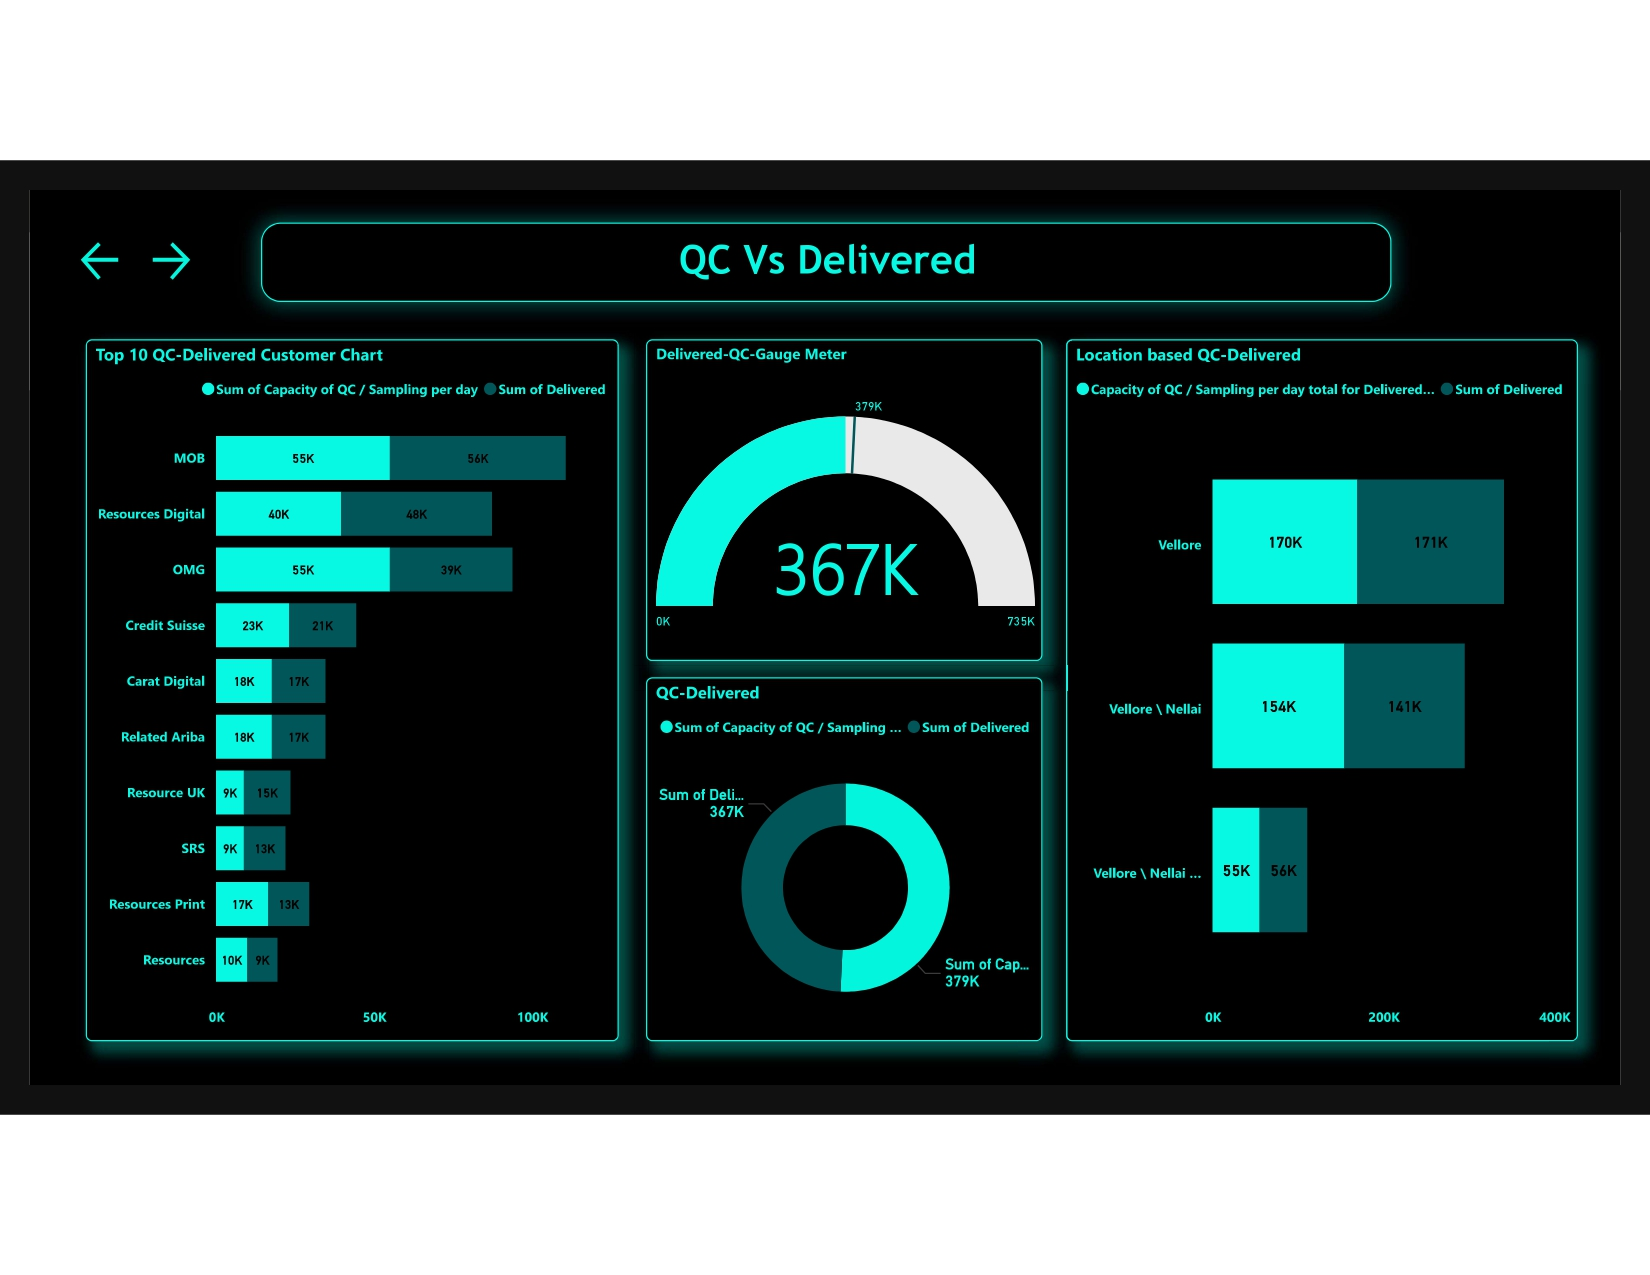

Layout of this report page (visuals, bound fields, positions):
{"tool":"powerbi","page":{"name":"QC Vs Delivered","canvas":[1280,720],"ordinal":2},"visuals":[{"type":"actionButton","box":[37.2,37.2,56.5,40.1],"z":0,"group":"g1"},{"type":"textbox","box":[185.7,25.9,910,63.9],"z":0},{"type":"actionButton","box":[93.7,37.2,65.4,40.1],"z":1000,"group":"g1"},{"type":"barChart","title":"Location based QC-Delivered","fields":{"Y":["Sep.Capacity of QC / Sampling per day total for Delivered Percentage","Sum(Sep.Delivered)"],"Category":["Sep.Location"]},"box":[833.9,120.4,411.7,564.8],"z":1000},{"type":"barChart","title":" Top 10 QC-Delivered Customer Chart","fields":{"Category":["Sep.Name of End Customer"],"Y":["Sum(Sep.Capacity of QC / Sampling per day)","Sum(Sep.Delivered)"]},"box":[44.6,120.4,429.6,564.8],"z":2000},{"type":"gauge","title":"Delivered-QC-Gauge Meter","fields":{"Y":["Sum(Sep.Delivered)"],"TargetValue":["Sum(Sep.Capacity of QC / Sampling per day)"]},"box":[496.5,120.4,318.1,258.6],"z":3000},{"type":"donutChart","title":"QC-Delivered ","fields":{"Y":["Sum(Sep.Capacity of QC / Sampling per day)","Sum(Sep.Delivered)"]},"box":[496.5,392.4,318.1,292.8],"z":4000},{"type":"group","id":"g1","title":"Group 1","box":[37.2,37.2,121.9,40.1],"z":4001}]}

Visuals, with their boxes on the page's 1280x720 design canvas (x1, y1, x2, y2). These are canvas units, not pixel positions in the 1650x1275 screenshot, which may show the page scaled, cropped or inside an application window:
actionButton: <bbox>37, 37, 94, 77</bbox>
textbox: <bbox>186, 26, 1096, 90</bbox>
actionButton: <bbox>94, 37, 159, 77</bbox>
"Location based QC-Delivered" barChart: <bbox>834, 120, 1246, 685</bbox>
" Top 10 QC-Delivered Customer Chart" barChart: <bbox>45, 120, 474, 685</bbox>
"Delivered-QC-Gauge Meter" gauge: <bbox>496, 120, 815, 379</bbox>
"QC-Delivered " donutChart: <bbox>496, 392, 815, 685</bbox>
"Group 1" group: <bbox>37, 37, 159, 77</bbox>
